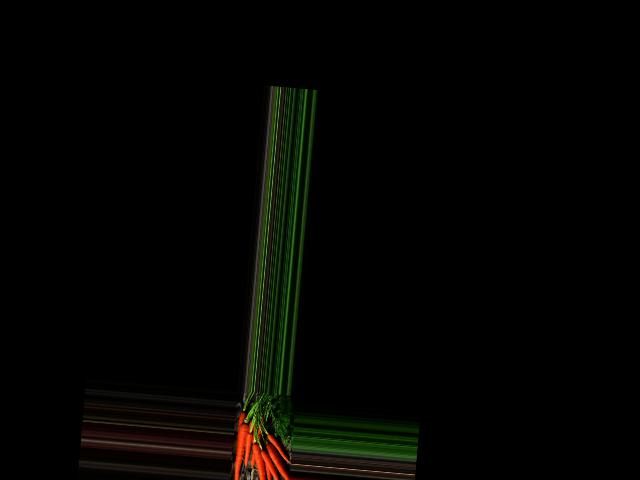carrot: (265, 431, 291, 460)
